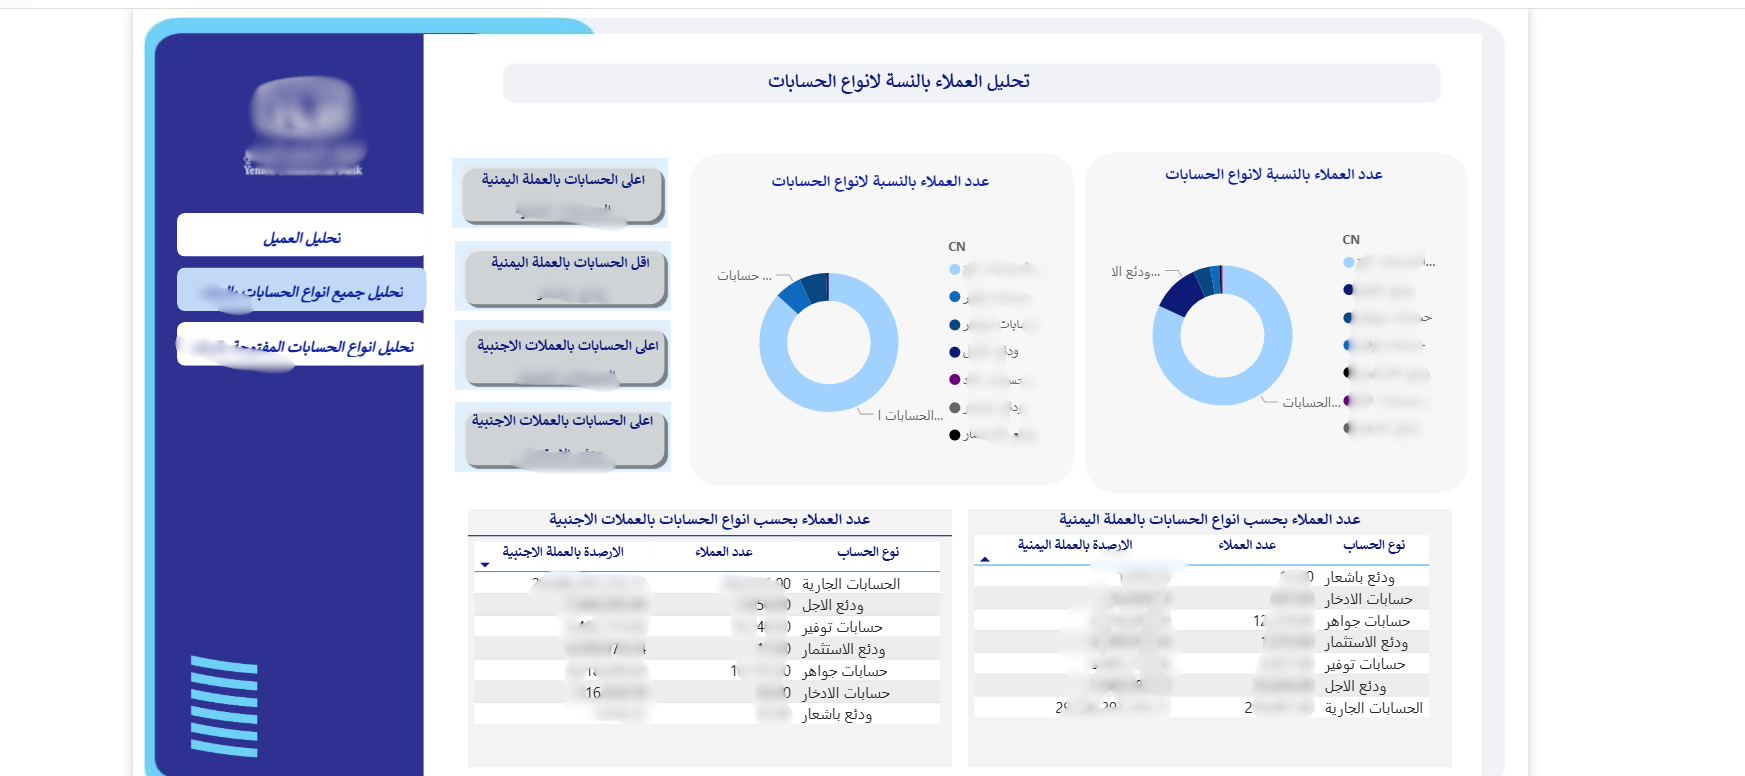

The page's visual inventory and layout, read from the dashboard file:
{"tool":"powerbi","page":{"name":" تحليل جميع انواع الحسابات بالبنك","canvas":[1280,720],"ordinal":1},"visuals":[{"type":"textbox","box":[0,58.2,809.8,49.4],"z":0},{"type":"image","box":[22,49.4,254.9,125.3],"z":1000},{"type":"image","box":[0,584.5,159.3,111],"z":3000},{"type":"donutChart","title":"عدد العملاء بالنسبة لانواع الحسابات","fields":{"Category":["Query7.CN"],"Y":["Sum(Query7.CNOTH)"]},"box":[546.1,153.8,324.1,295.6],"z":4000},{"type":"donutChart","title":"عدد العملاء بالنسبة لانواع الحسابات","fields":{"Category":["Query7.CN"],"Y":["Sum(Query7.CNYR)"]},"box":[880.1,153.8,325.2,295.6],"z":5000},{"type":"tableEx","title":"عدد العملاء بحسب انواع الحسابات بالعملة اليمنية ","fields":{"Values":["Sum(Query7.SMOTH)","Sum(Query7.CNYR)","Query7.CN"]},"box":[780.1,467,429.6,228.5],"z":6000},{"type":"tableEx","title":"عدد العملاء بحسب انواع الحسابات بالعملات الاجنبية","fields":{"Values":["Sum(Query7.SMOTH)","Sum(Query7.CNOTH)","Query7.CN"]},"box":[307.6,467,423,228.5],"z":7000},{"type":"shape","box":[289,213.2,218.6,63.7],"z":8000},{"type":"shape","box":[289,285.7,218.6,63.7],"z":9000},{"type":"shape","box":[289,360.4,218.6,63.7],"z":10000},{"type":"shape","box":[289,139.5,218.6,63.7],"z":11000},{"type":"card","title":"اعلى الحسابات بالعملة اليمنية","fields":{"Values":["Query7.max acount type"]},"box":[297.8,146.1,202.2,57.1],"z":12000},{"type":"card","title":"اقل الحسابات بالعملة اليمنية","fields":{"Values":["Query7.min acount type"]},"box":[276.9,219.7,243.9,57.1],"z":13000},{"type":"card","title":"اعلى الحسابات بالعملات الاجنبية ","fields":{"Values":["Query7.max acount type OTH"]},"box":[275.8,292.3,243.9,57.1],"z":14000},{"type":"card","title":"اعلى الحسابات بالعملات الاجنبية ","fields":{"Values":["Query7.MIN acount type OTH"]},"box":[276.9,367,243.9,57.1],"z":15000},{"type":"pageNavigator","box":[47.2,195.6,217.5,142.8],"z":16000}]}

Visuals, with their boxes on the page's 1280x720 design canvas (x1, y1, x2, y2). These are canvas units, not pixel positions in the 1745x776 screenshot, which may show the page scaled, cropped or inside an application window:
textbox: x1=0, y1=58, x2=810, y2=108
image: x1=22, y1=49, x2=277, y2=175
image: x1=0, y1=584, x2=159, y2=696
"عدد العملاء بالنسبة لانواع الحسابات" donutChart: x1=546, y1=154, x2=870, y2=449
"عدد العملاء بالنسبة لانواع الحسابات" donutChart: x1=880, y1=154, x2=1205, y2=449
"عدد العملاء بحسب انواع الحسابات بالعملة اليمنية " tableEx: x1=780, y1=467, x2=1210, y2=696
"عدد العملاء بحسب انواع الحسابات بالعملات الاجنبية" tableEx: x1=308, y1=467, x2=731, y2=696
shape: x1=289, y1=213, x2=508, y2=277
shape: x1=289, y1=286, x2=508, y2=349
shape: x1=289, y1=360, x2=508, y2=424
shape: x1=289, y1=140, x2=508, y2=203
"اعلى الحسابات بالعملة اليمنية" card: x1=298, y1=146, x2=500, y2=203
"اقل الحسابات بالعملة اليمنية" card: x1=277, y1=220, x2=521, y2=277
"اعلى الحسابات بالعملات الاجنبية " card: x1=276, y1=292, x2=520, y2=349
"اعلى الحسابات بالعملات الاجنبية " card: x1=277, y1=367, x2=521, y2=424
pageNavigator: x1=47, y1=196, x2=265, y2=338
